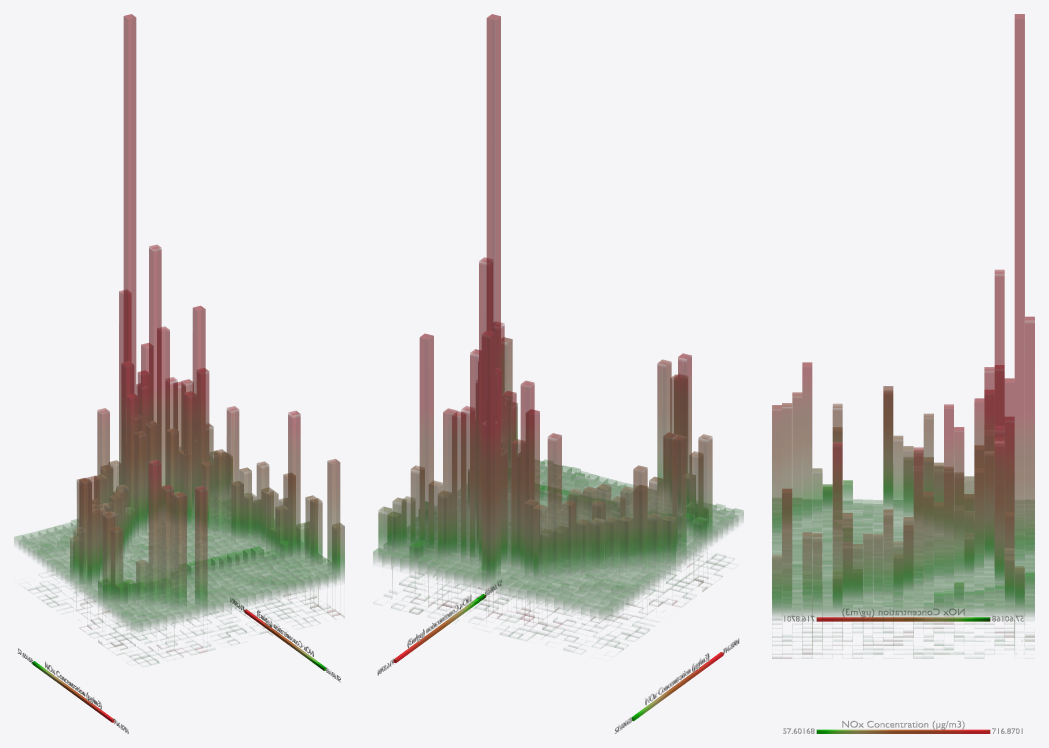
File: TQ3381SW_PM_NOx.gltf
3 renders of one model, left to right at view 1: azimuth 30°, elevation 25°; view 2: azimuth 150°, elevation 25°; view 3: azimuth 270°, elevation 25°, orthographic. The views are drawn at different scales.
Parts seen in each view (by area): view 1: Cube.480; view 2: Cube.480; view 3: Cube.480, Cube.002, Cube.001, Text.003, Text.001.
Part boxes in pixels (x1,y1,x2,y2): Cube.480: (14,14,344,664); Cube.480: (373,14,743,649); Cube.480: (772,14,1034,658); Cube.002: (816,617,990,621); Cube.001: (816,729,990,733); Text.003: (842,720,964,729); Text.001: (842,608,964,617).
Size of the model in its own units: 51.18 by 139 by 50.04.
3 materials, 2 textured.
